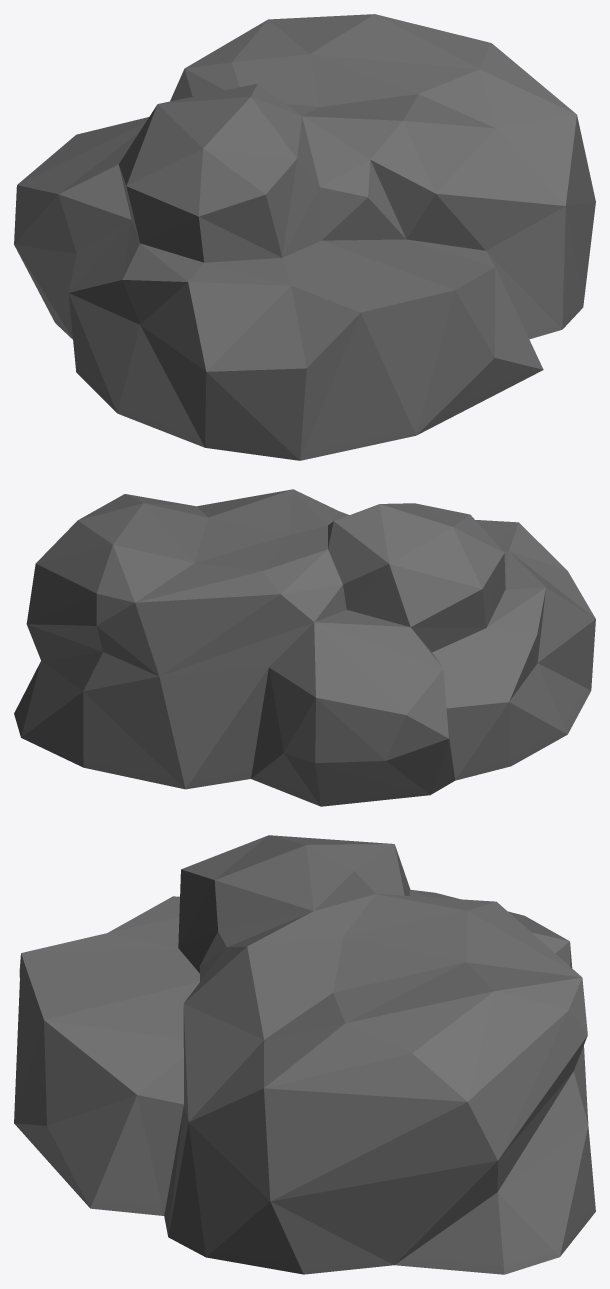
The model's file is um_rock003.FBX.
The picture shows the model from 3 angles, top to bottom: view 1: azimuth 30°, elevation 25°; view 2: azimuth 150°, elevation 25°; view 3: azimuth 270°, elevation 25°; orthographic projection. The views are drawn at different scales.
Parts seen in each view (by area): view 1: um_rock003; view 2: um_rock003; view 3: um_rock003.
Boxes of the visible parts, x1,y1,x2,y2 form: um_rock003: [14, 14, 595, 460]; um_rock003: [14, 489, 595, 806]; um_rock003: [14, 835, 595, 1274].
Size of the model in its own units: 1.89 by 0.888 by 1.78.
